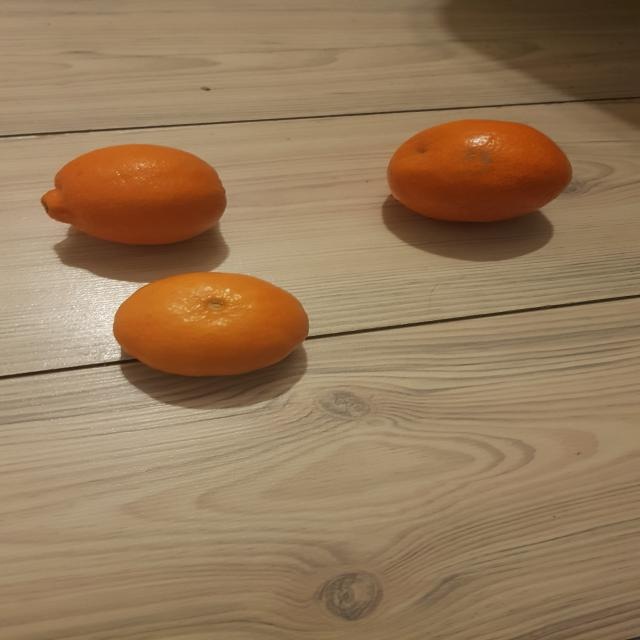Orange: (112, 272, 310, 380), (386, 119, 574, 225), (40, 143, 228, 248)
